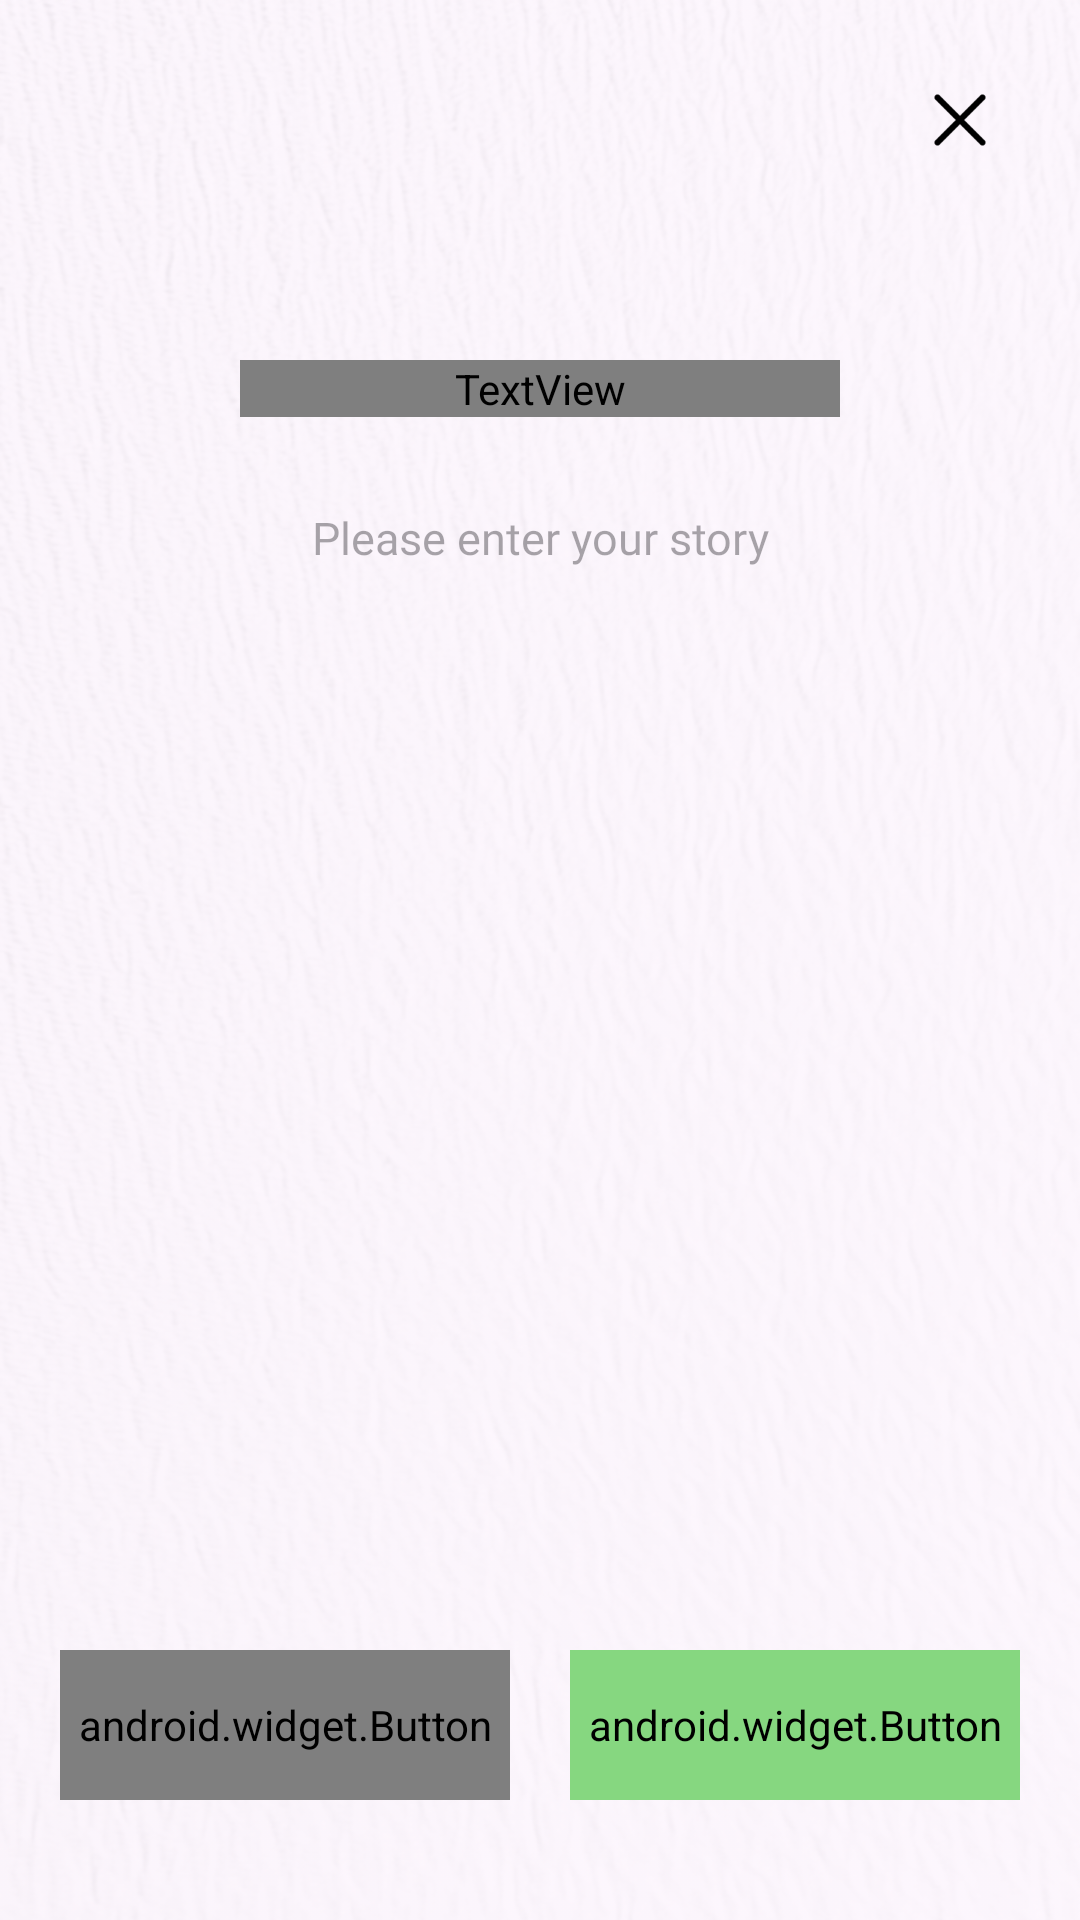

Point at icon controls on the screen. Image size 1080 x 1920, points as [x,y].
cancel: [960,120]
